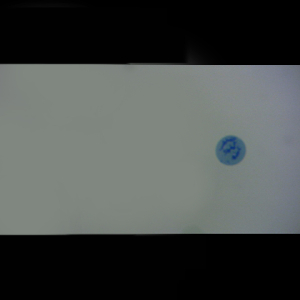aggregate reticulocyte: (214, 135, 247, 166)
